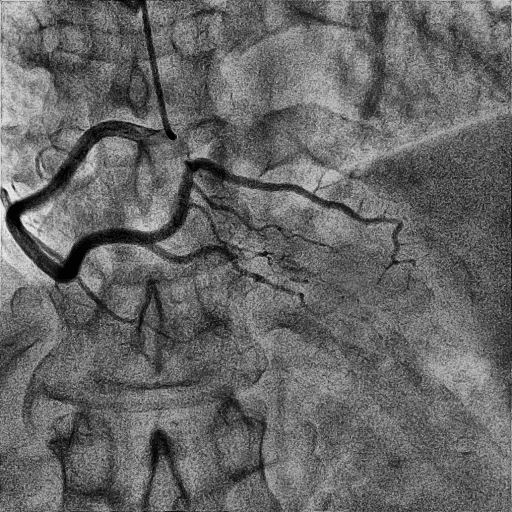pborca: (148, 156, 418, 266)
pda: (145, 244, 321, 318)
rca: (5, 120, 171, 284)
